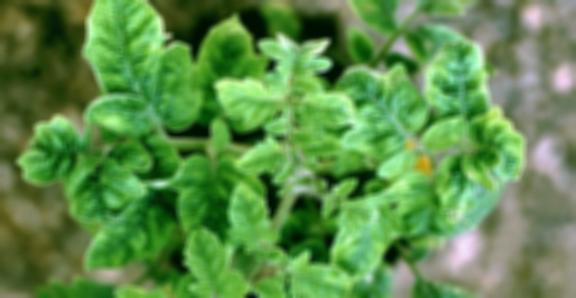Tomato leaf yellow virus: (78, 0, 191, 139), (339, 54, 444, 159), (417, 32, 513, 130), (78, 179, 178, 272), (181, 221, 253, 298), (331, 208, 399, 283), (215, 66, 291, 131), (289, 83, 364, 137), (280, 249, 358, 298)
